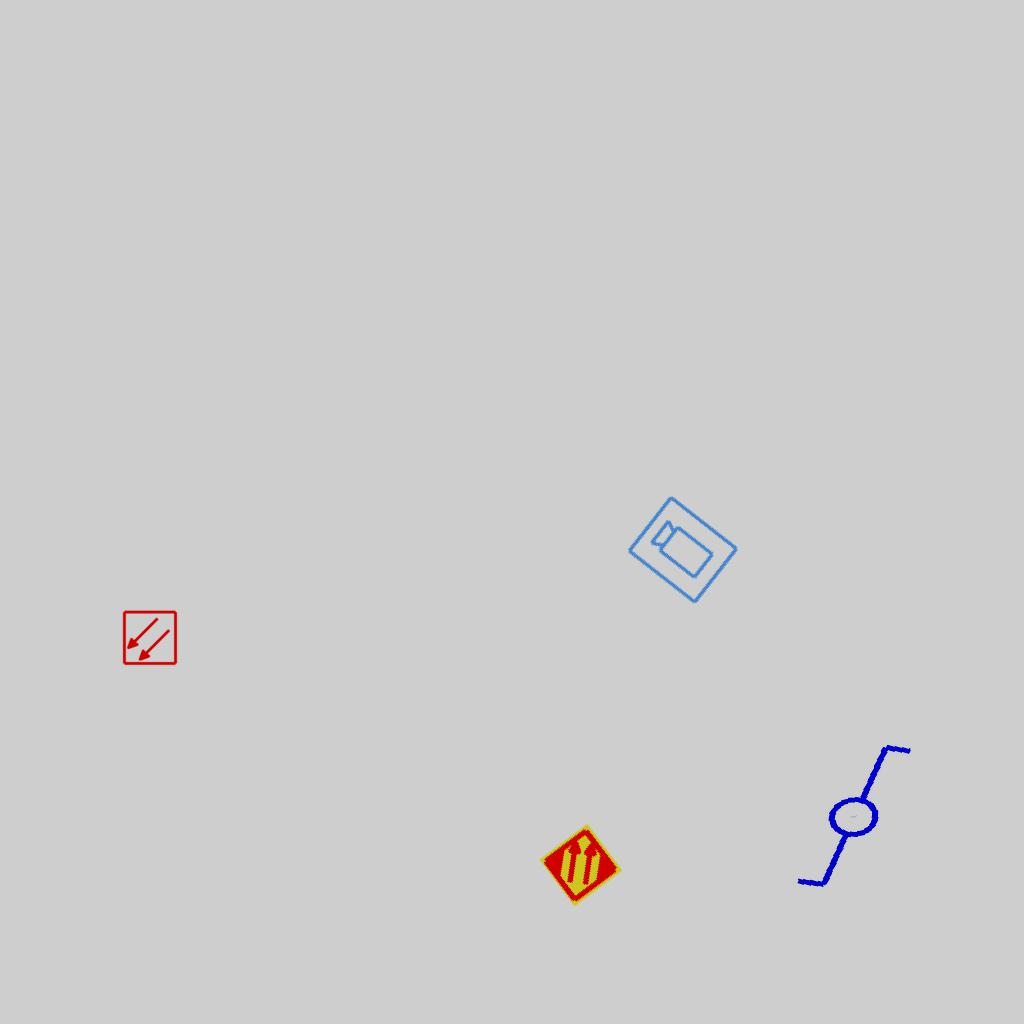ASR_Ansaugrauchmelder: (537, 821, 625, 909)
KFO_Kamera_mit_Festobjektiv: (623, 491, 744, 608)
RMO_Rauchmelder_optischer: (122, 610, 178, 666)
Wechselschalter: (757, 733, 934, 899)
